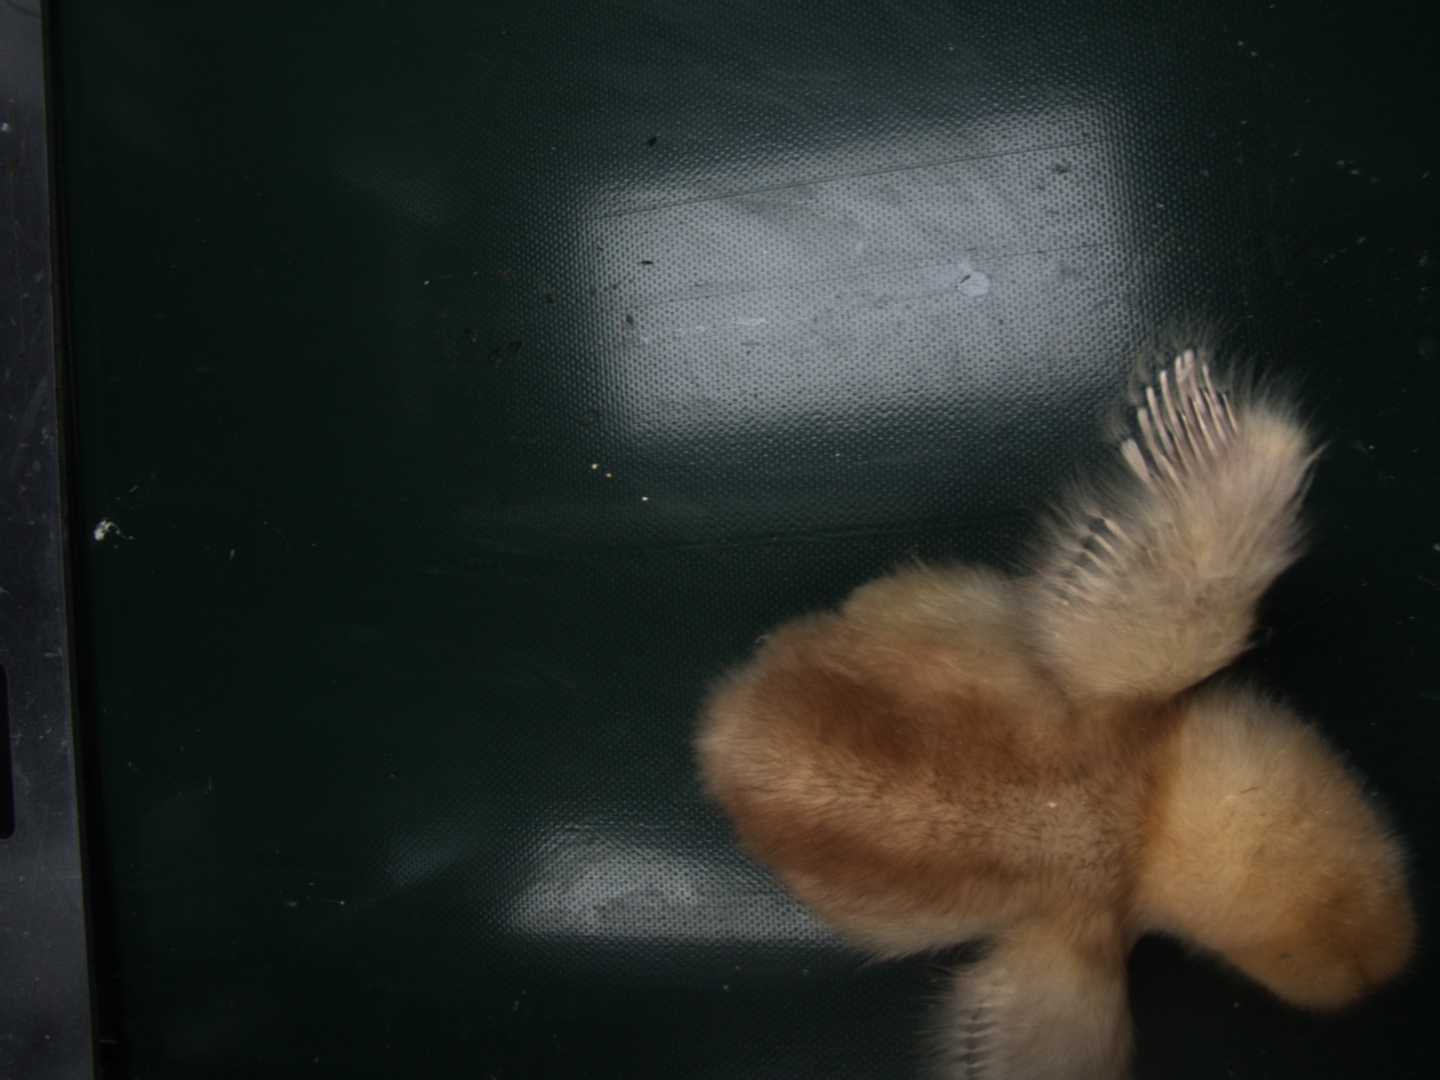female: (1117, 347, 1247, 488)
